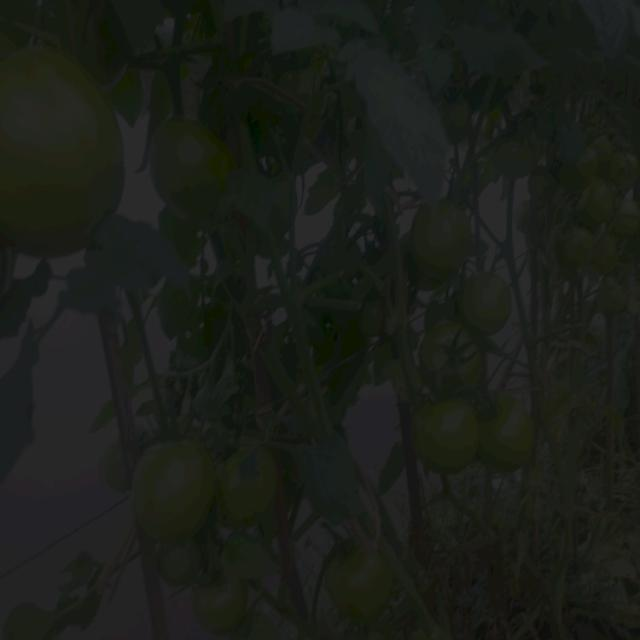tomato: (1, 44, 115, 256), (153, 121, 233, 230), (318, 532, 404, 627), (136, 440, 212, 539), (402, 202, 484, 279), (213, 431, 274, 531), (458, 264, 524, 341), (412, 397, 476, 474), (429, 322, 490, 385), (483, 400, 539, 467), (193, 570, 251, 632), (492, 132, 541, 185), (157, 532, 197, 583), (599, 272, 640, 314), (564, 221, 600, 267), (100, 442, 135, 489), (443, 93, 474, 145), (615, 198, 640, 252), (612, 148, 640, 193), (355, 296, 389, 333), (580, 141, 610, 178), (591, 186, 613, 227)
